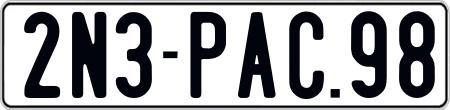2: (22, 10, 61, 102)
3: (116, 9, 154, 100)
8: (399, 9, 434, 100)
9: (351, 11, 387, 99)
A: (238, 10, 276, 101)
C: (288, 10, 329, 100)
N: (71, 10, 109, 102)
P: (188, 11, 226, 98)
